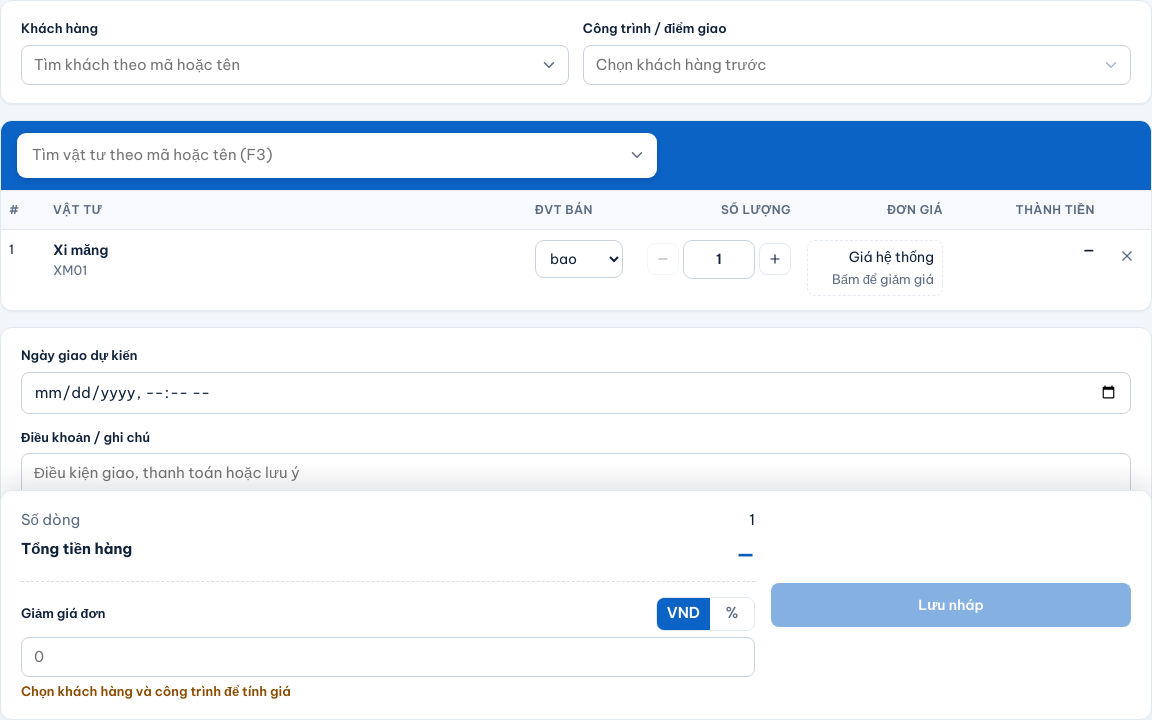
Scenario: tells the cashier what is missing instead of a blank total, then prices Vietnamese quantities
Expected: the text "Chọn khách hàng và công trình để tính giá" is shown, x1=21 y1=682 x2=291 y2=698
Expected: the text "—" in the row of "Tổng tiền hàng" is shown, x1=736 y1=539 x2=755 y2=567
Focus the dropdown labelled "Khách hàng" at (295, 65), box x1=21 y1=44 x2=569 y2=85
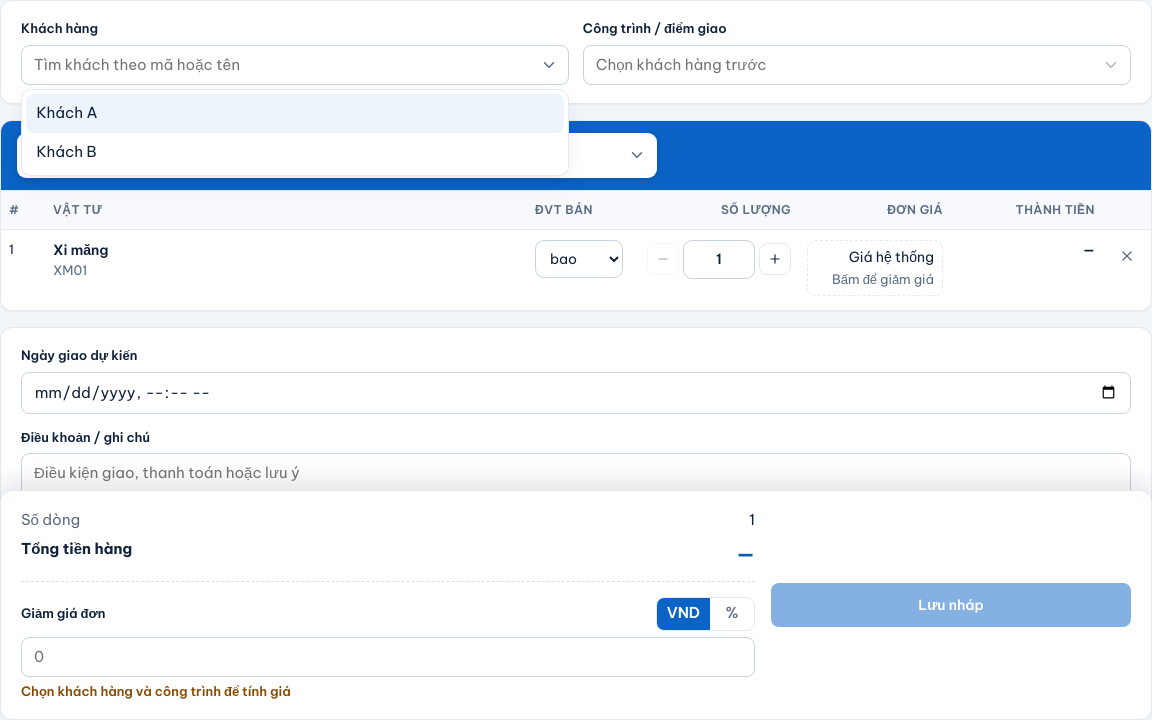
Press the mouse on the option "Khách B" at (66, 151), box x1=36 y1=142 x2=97 y2=160
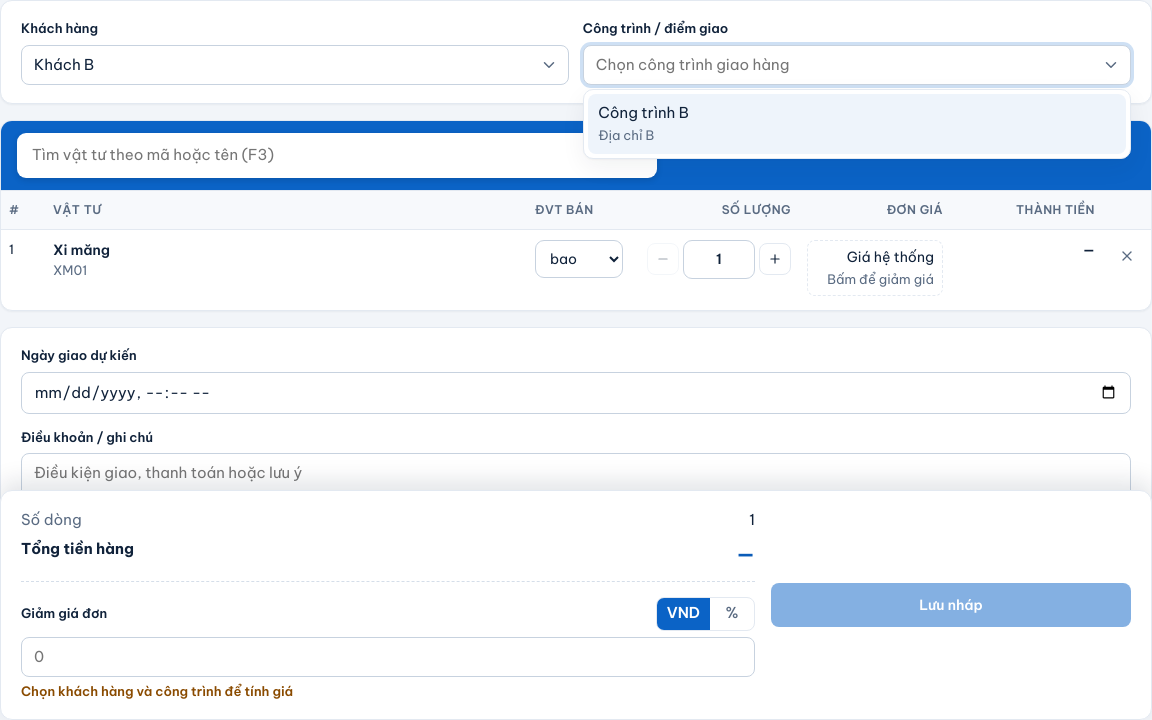
Expected: the dropdown labelled "Công trình / điểm giao" is enabled, x1=583 y1=44 x2=1131 y2=85
Press the mouse on the option "Công trình B Địa chỉ B" at (644, 112), box x1=588 y1=94 x2=1126 y2=154
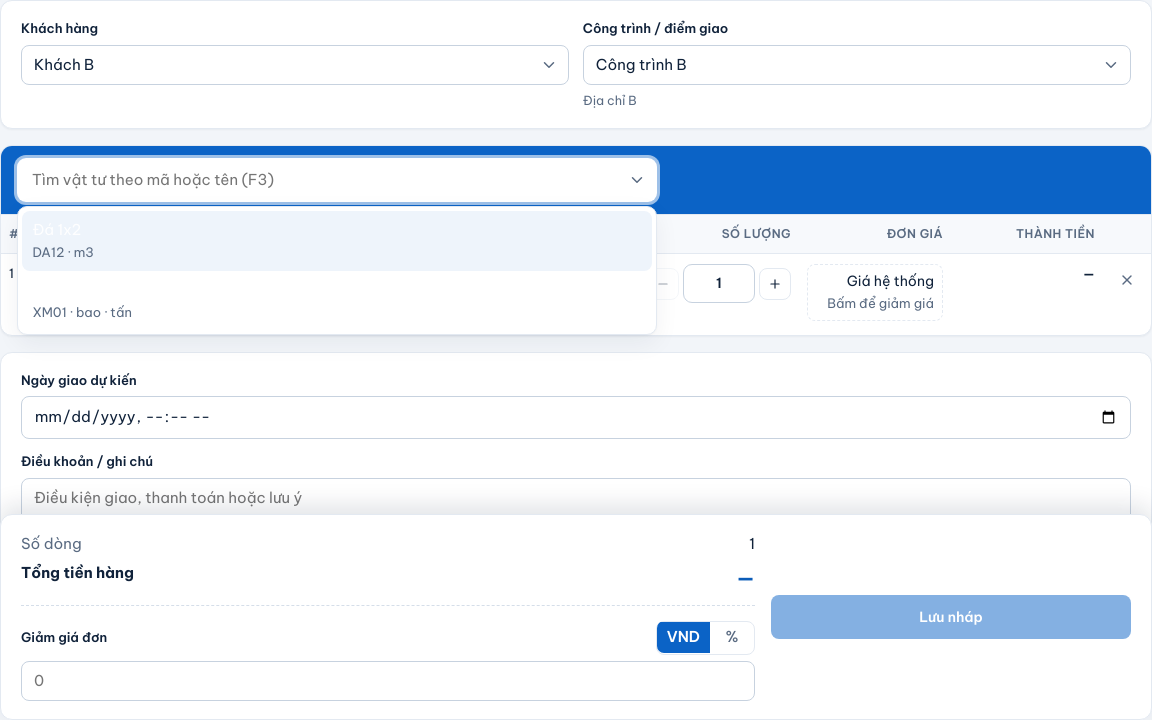
Replace the text in the field named "Số lượng dòng 1" with "1,5" at (719, 284), box x1=683 y1=264 x2=755 y2=303
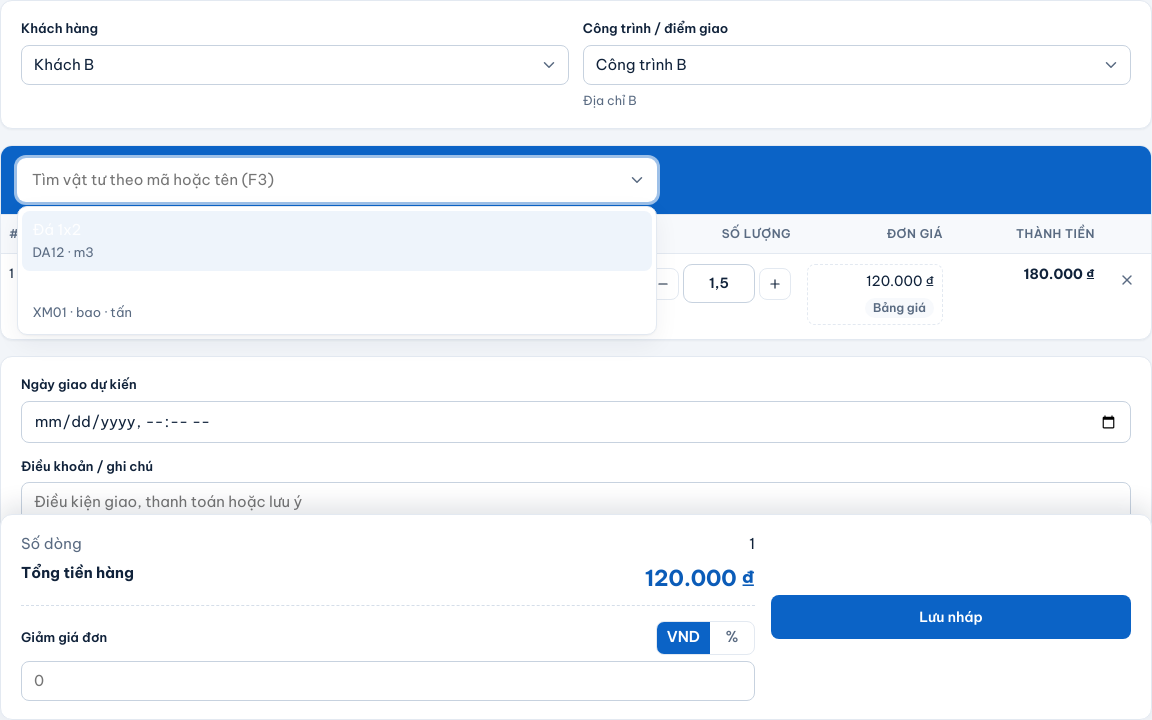
Expected: the text "120.000 ₫" in the row of "Tổng tiền hàng" is shown, x1=645 y1=564 x2=755 y2=592
